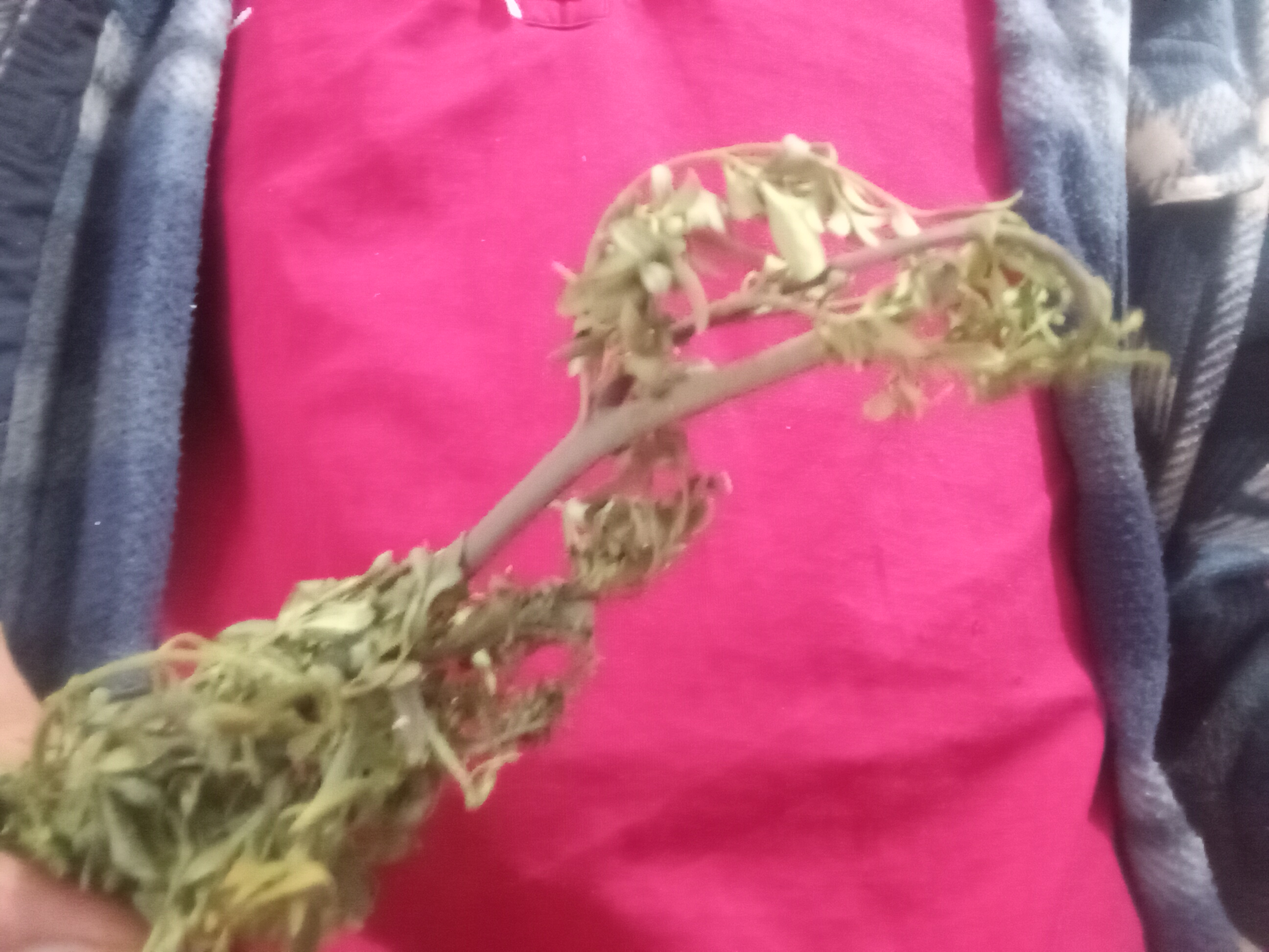Organico: (0, 134, 1108, 951)
